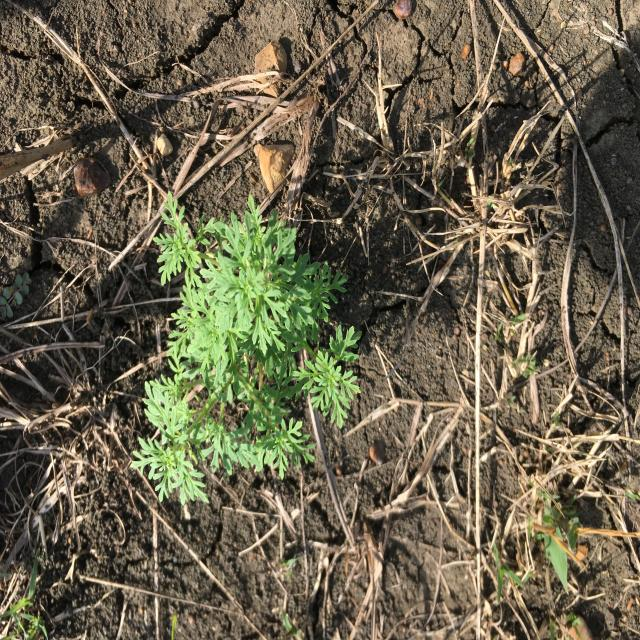Ragweed: (128, 187, 364, 508)
